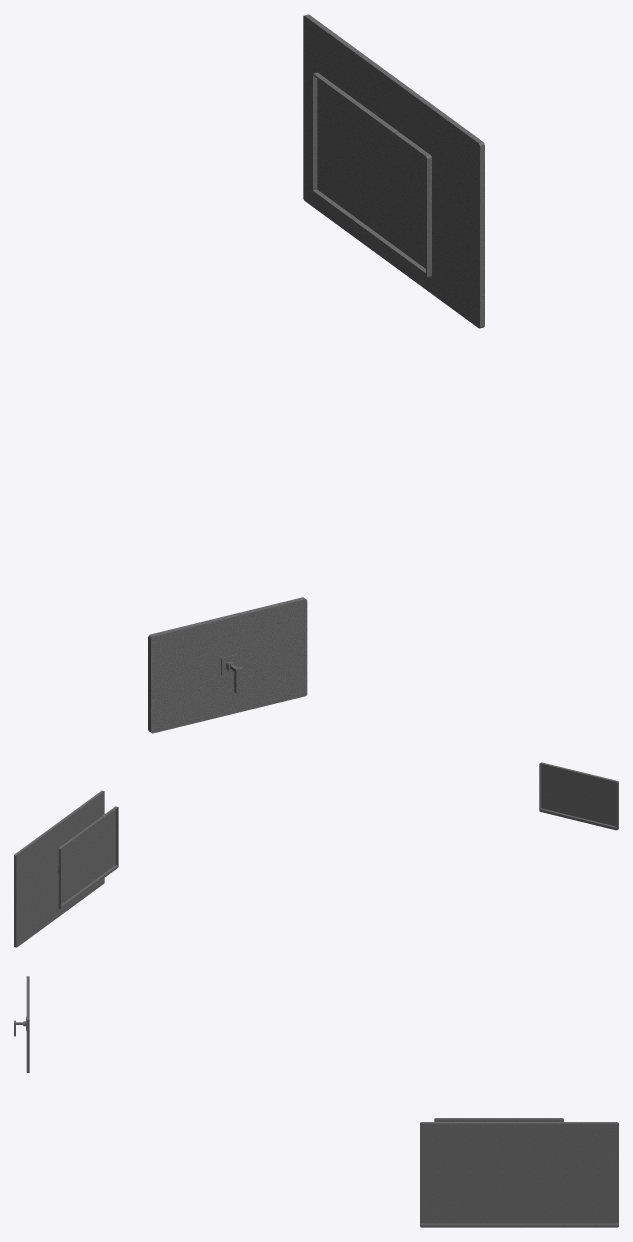
The picture shows the model from 3 angles, top to bottom: view 1: azimuth 30°, elevation 25°; view 2: azimuth 150°, elevation 25°; view 3: azimuth 270°, elevation 25°; orthographic projection. The views are drawn at different scales.
Size of the model in its own units: 4.25 by 1.1 by 5.78.
Materials: 1 (1 with a texture image).
